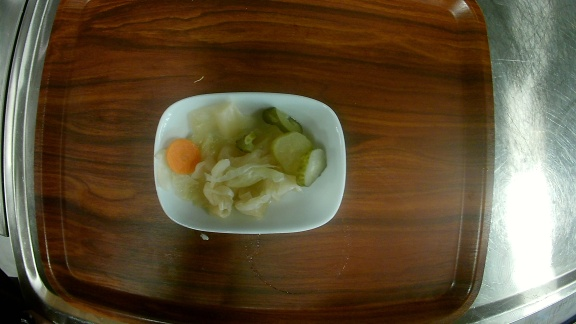tursu: (152, 91, 348, 234)
